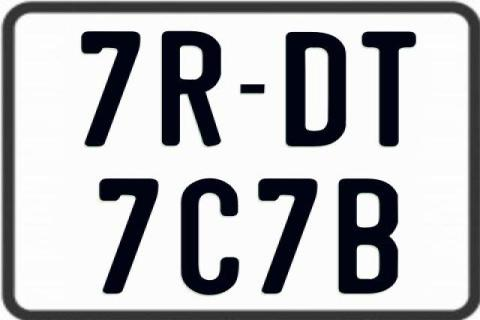0: (255, 179, 317, 295), (81, 31, 140, 147), (99, 178, 158, 294)
B: (337, 178, 401, 296)
C: (179, 178, 240, 296)
D: (285, 30, 345, 146)
R: (161, 29, 223, 148)
T: (360, 30, 414, 146)
